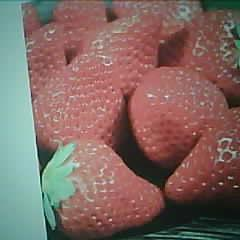straw-ripe: (44, 140, 162, 238)
